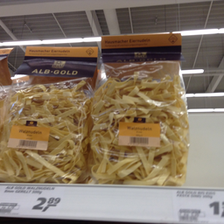pasta: (91, 33, 191, 184), (2, 46, 97, 182)
